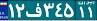character: (26, 1, 43, 20), (63, 1, 75, 21), (43, 1, 55, 20), (15, 1, 26, 19), (54, 1, 64, 19), (8, 2, 15, 20), (78, 5, 85, 20), (87, 5, 94, 20)
